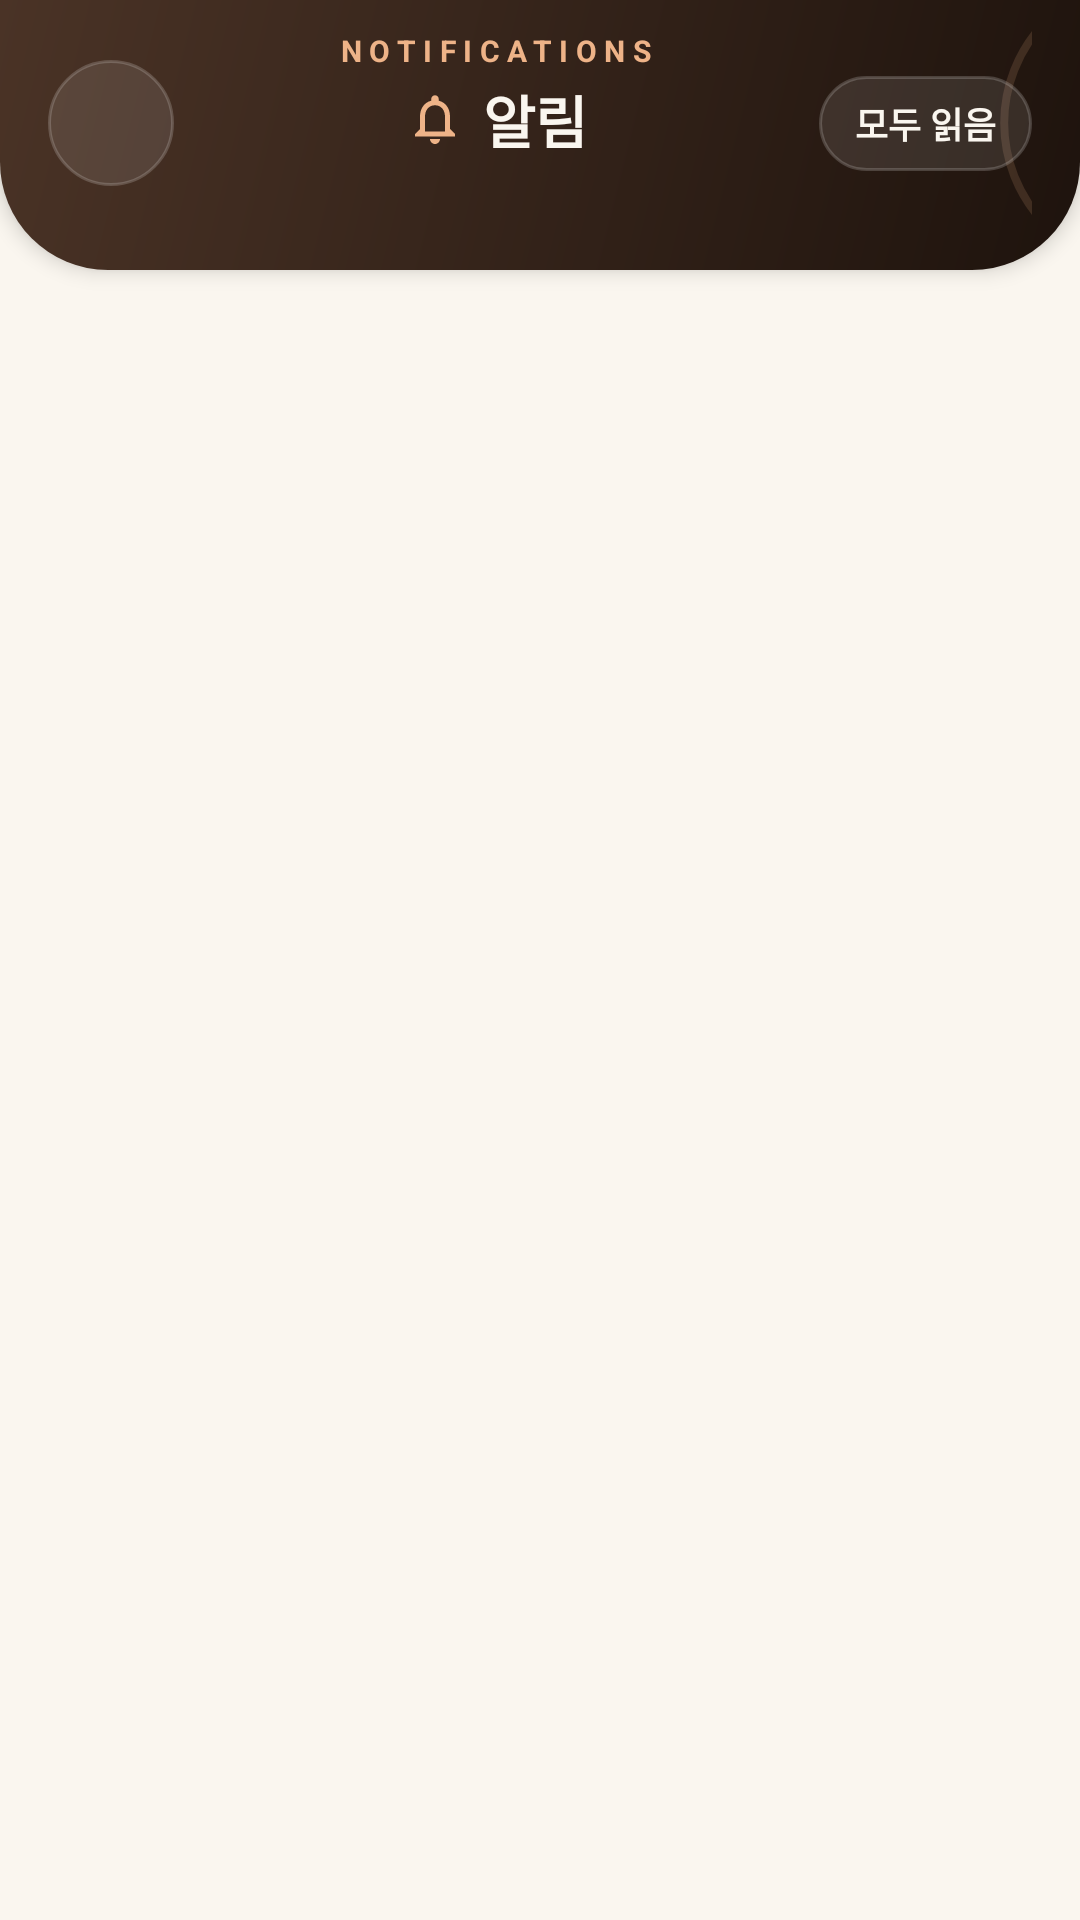

Icon bounding boxes for this 1080w x 1920h phone screenshot, format {"x1": x1, "y1": y1, "x2": x2, "y2": y2}:
bell: {"x1": 415, "y1": 95, "x2": 455, "y2": 144}
